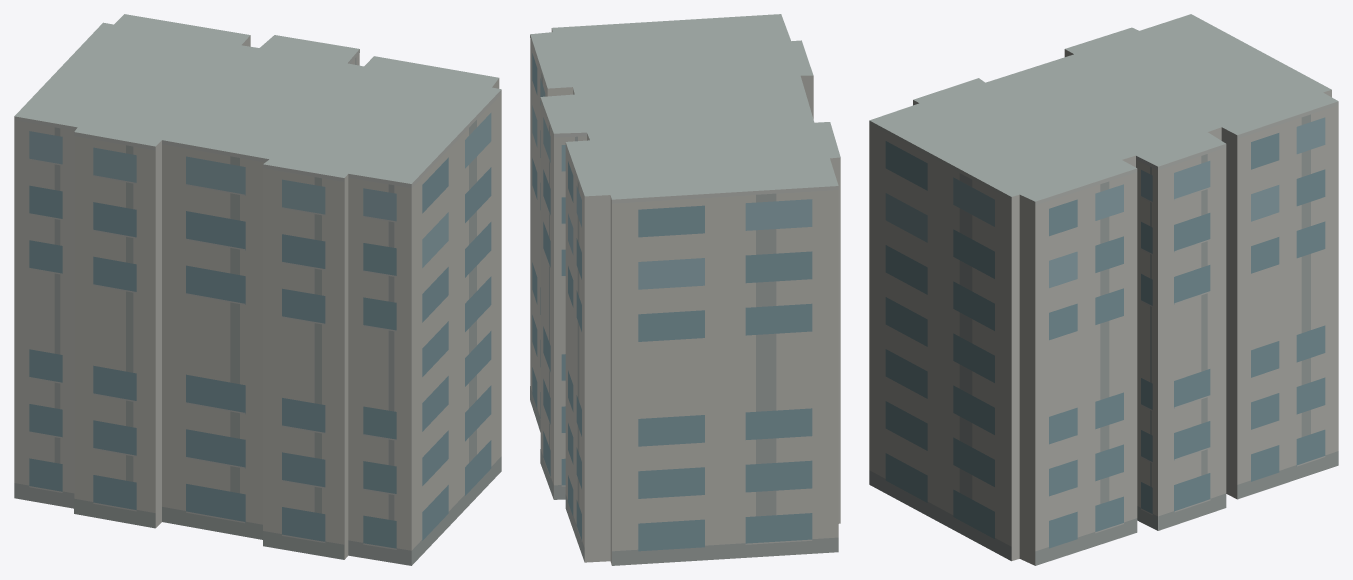
Rendered from survey-upis-32952848.glb.
The picture shows the model from 3 angles, left to right: view 1: azimuth 30°, elevation 25°; view 2: azimuth 150°, elevation 25°; view 3: azimuth 270°, elevation 25°; orthographic projection. The views are drawn at different scales.
Parts seen in each view (by area): view 1: survey-upis-32952848.tmp; view 2: survey-upis-32952848.tmp; view 3: survey-upis-32952848.tmp.
Boxes of the visible parts, x1,y1,x2,y2 form: survey-upis-32952848.tmp: (14, 14, 501, 565); survey-upis-32952848.tmp: (530, 14, 840, 565); survey-upis-32952848.tmp: (869, 14, 1338, 565).
Size of the model in its own units: 25.65 by 23.2 by 27.1.
